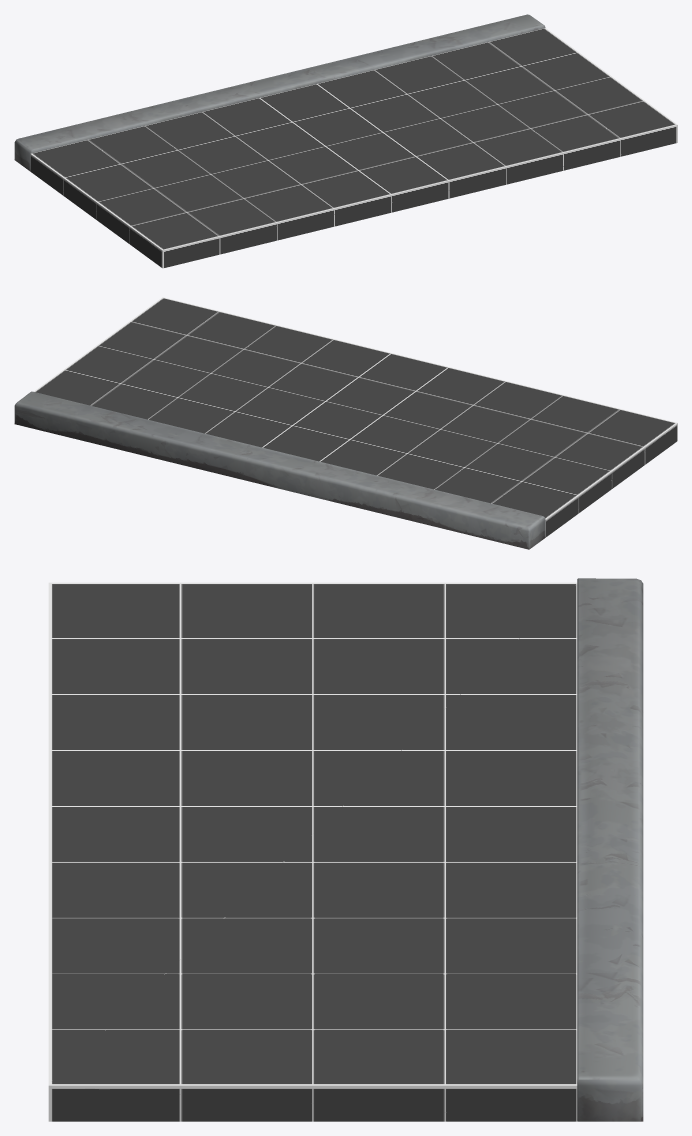
File: M02SideWalk03_7.FBX
The picture shows the model from 3 angles, top to bottom: view 1: azimuth 30°, elevation 25°; view 2: azimuth 150°, elevation 25°; view 3: azimuth 270°, elevation 25°; orthographic projection. The views are drawn at different scales.
Visible parts, largest first — view 1: M02SideWalk03_7; view 2: M02SideWalk03_7; view 3: M02SideWalk03_7.
Boxes of the visible parts, x1=… form: M02SideWalk03_7: x1=14, y1=14, x2=677, y2=268; M02SideWalk03_7: x1=14, y1=297, x2=677, y2=549; M02SideWalk03_7: x1=48, y1=578, x2=643, y2=1121.
Size of what is drawn, in the model's own units: 4.5 by 0.1783 by 2.25.
